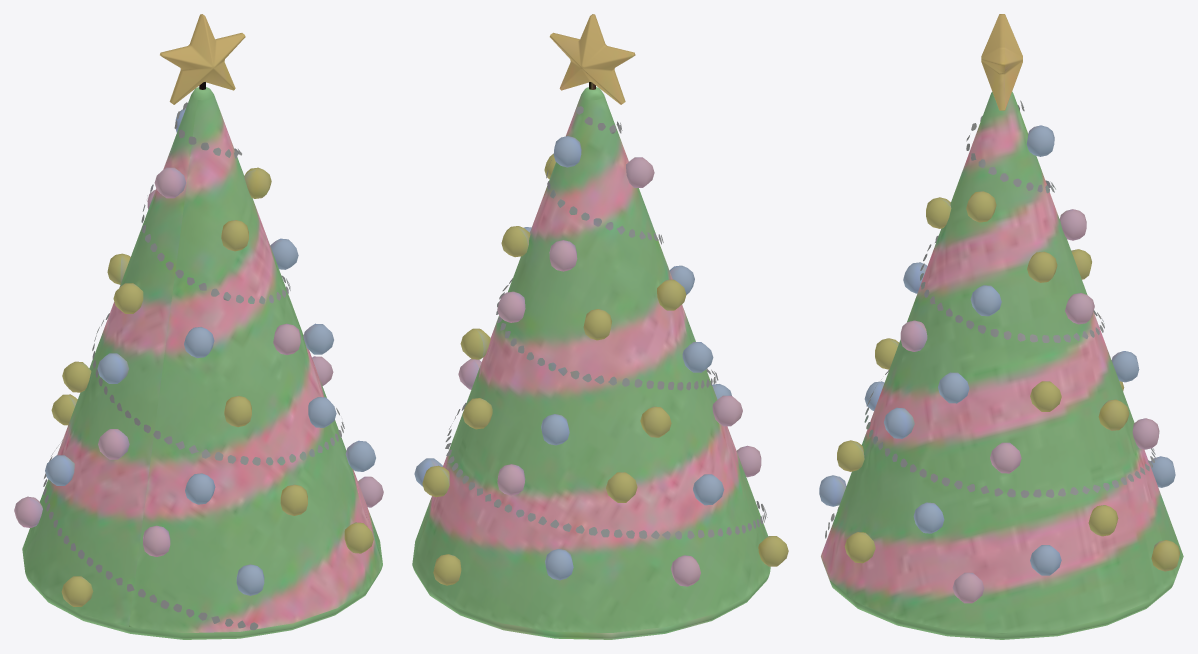
File: illumi-tree.glb
The picture shows the model from 3 angles, left to right: view 1: azimuth 30°, elevation 25°; view 2: azimuth 150°, elevation 25°; view 3: azimuth 270°, elevation 25°; orthographic projection.
Size of the model in its own units: 19.69 by 31.78 by 19.19.
2 materials, 2 textured.
